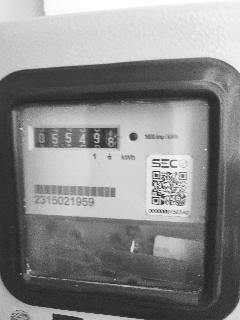1: (39, 133, 45, 143)
5: (79, 134, 85, 144)
6: (52, 134, 58, 144), (66, 133, 72, 143)
9: (108, 138, 114, 147)
:: (94, 133, 100, 143)
